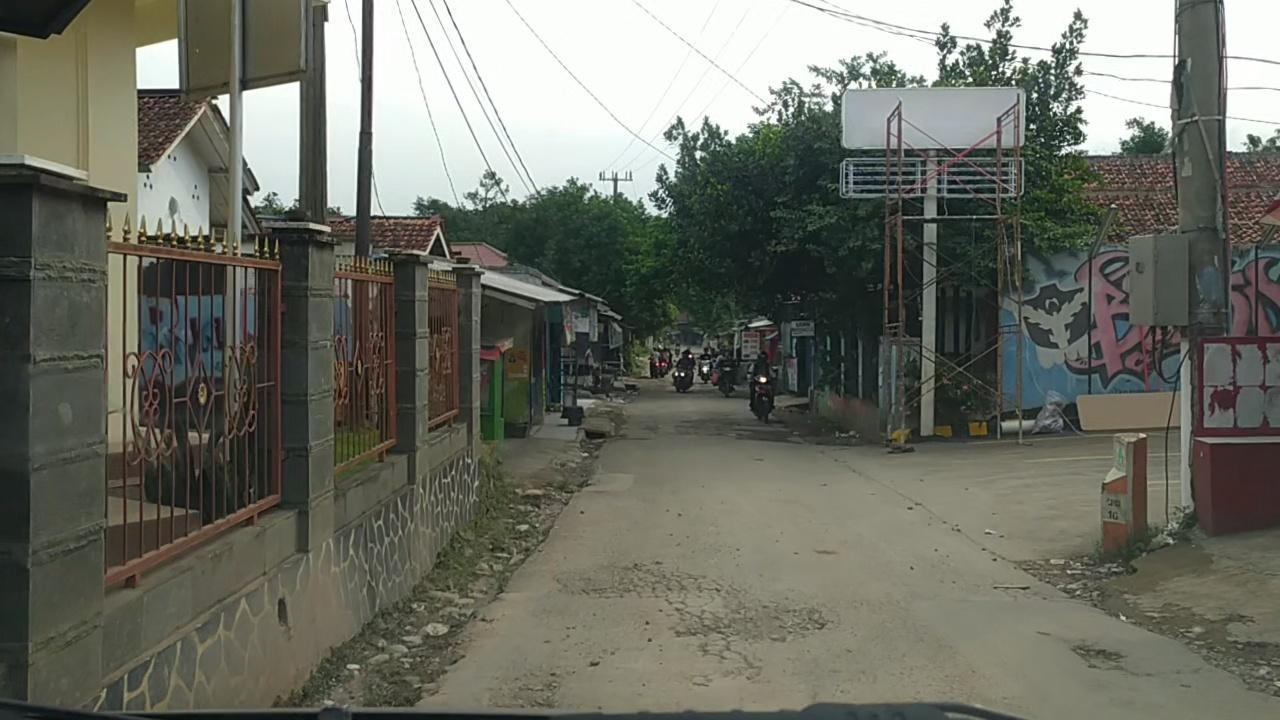pothole: (1072, 644, 1130, 673)
